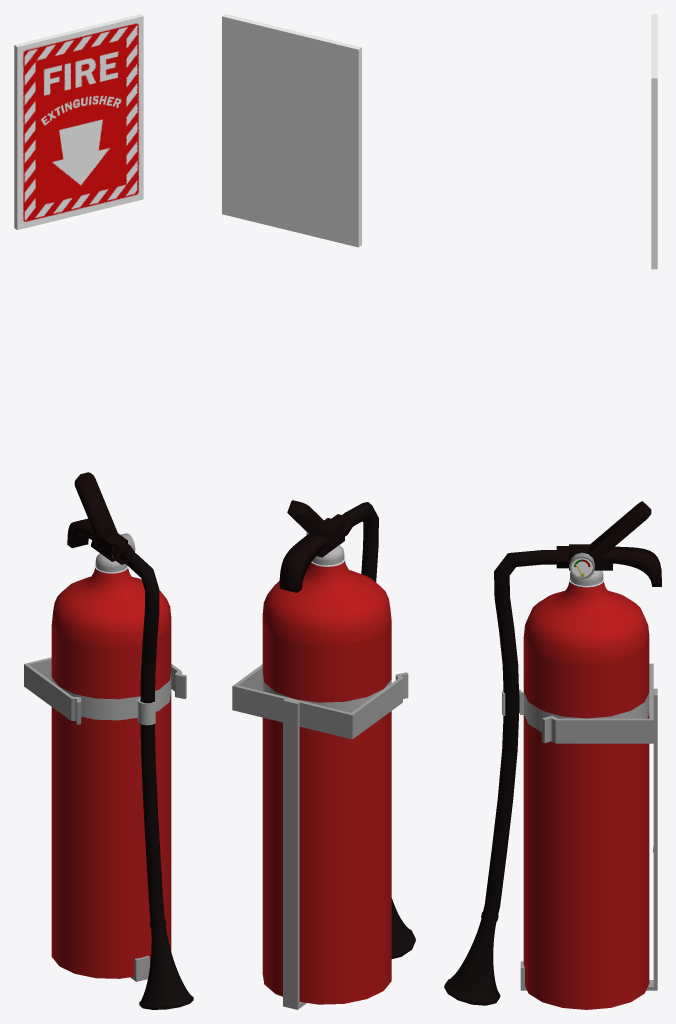
3 renders of one model, left to right at view 1: azimuth 30°, elevation 25°; view 2: azimuth 150°, elevation 25°; view 3: azimuth 270°, elevation 25°, orthographic. The views are drawn at different scales.
Parts seen in each view (by area): view 1: SketchUp (×4), group_12, group_6, Group_482, group_2, group_1, group_0, Group_485; view 2: SketchUp (×4), group_12 (×2), group_7, Group_482, Group_485, group_1, group_2, group_6, group_0; view 3: SketchUp (×4), Group_485, group_6, group_12, group_7, group_2, group_1.
Part boxes in pixels (bbox=[...]): SketchUp (×4): bbox=[51, 552, 171, 978]; group_12: bbox=[14, 14, 143, 229]; group_6: bbox=[140, 921, 192, 1006]; Group_482: bbox=[24, 657, 81, 724]; group_2: bbox=[74, 472, 117, 540]; group_1: bbox=[67, 518, 99, 548]; group_0: bbox=[91, 533, 127, 561]; Group_485: bbox=[171, 664, 186, 698]; SketchUp (×4): bbox=[262, 502, 391, 1004]; group_12 (×2): bbox=[222, 14, 361, 247]; group_7: bbox=[283, 699, 306, 1009]; Group_482: bbox=[293, 672, 408, 739]; Group_485: bbox=[232, 664, 294, 722]; group_1: bbox=[279, 534, 331, 592]; group_2: bbox=[287, 500, 333, 538]; group_6: bbox=[391, 898, 414, 955]; group_0: bbox=[316, 518, 344, 557]; SketchUp (×4): bbox=[483, 550, 649, 1009]; Group_485: bbox=[542, 692, 653, 743]; group_6: bbox=[446, 913, 499, 1002]; group_12: bbox=[651, 14, 657, 269]; group_7: bbox=[520, 688, 657, 990]; group_2: bbox=[590, 501, 651, 558]; group_1: bbox=[600, 546, 661, 586].
Bounding box in the file's own units: 5.97 × 8.54 × 41.19.
12 materials, 1 textured.
